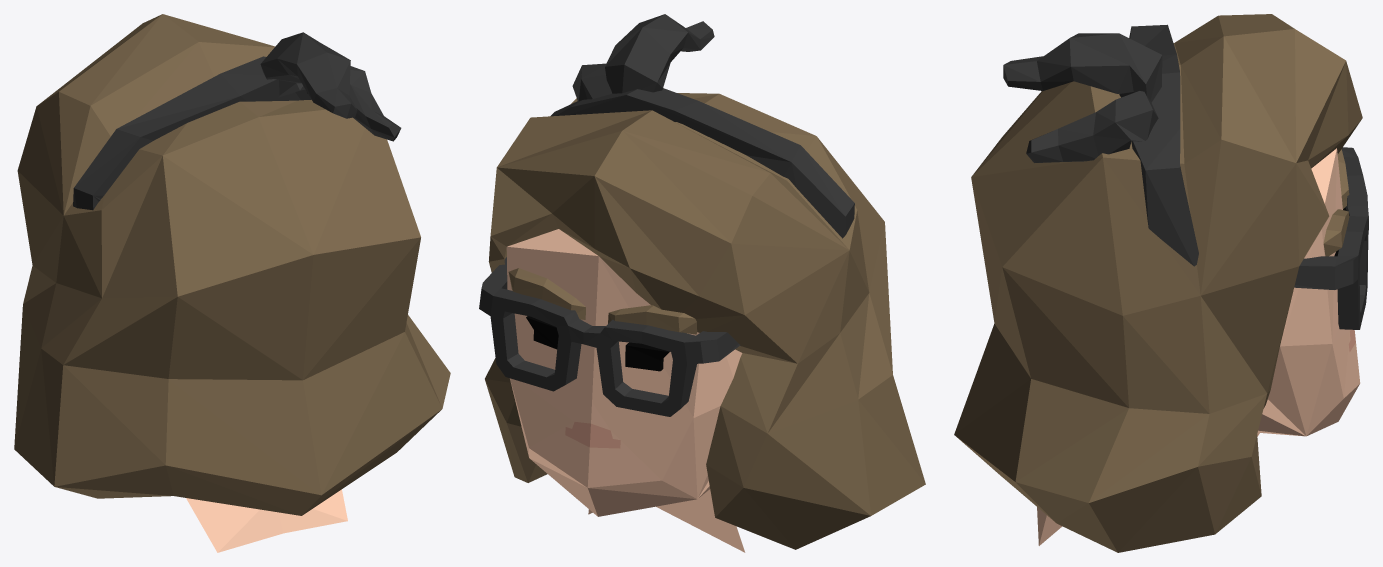
Rendered from Mother_01_Head_0_04_A.obj.
3 views of the same model, side by side, from view 1: azimuth 30°, elevation 25°; view 2: azimuth 150°, elevation 25°; view 3: azimuth 270°, elevation 25° (orthographic). The views are drawn at different scales.
Parts seen in each view (by area): view 1: Mother_01_Head_0_04_A; view 2: Mother_01_Head_0_04_A; view 3: Mother_01_Head_0_04_A.
Part boxes in pixels (left/top/right/bottom): Mother_01_Head_0_04_A: left=14, top=14, right=450, bottom=552; Mother_01_Head_0_04_A: left=479, top=14, right=925, bottom=552; Mother_01_Head_0_04_A: left=954, top=14, right=1368, bottom=552.
Size of the model in its own units: 0.3657 by 0.4118 by 0.3042.
1 material, 1 textured.
